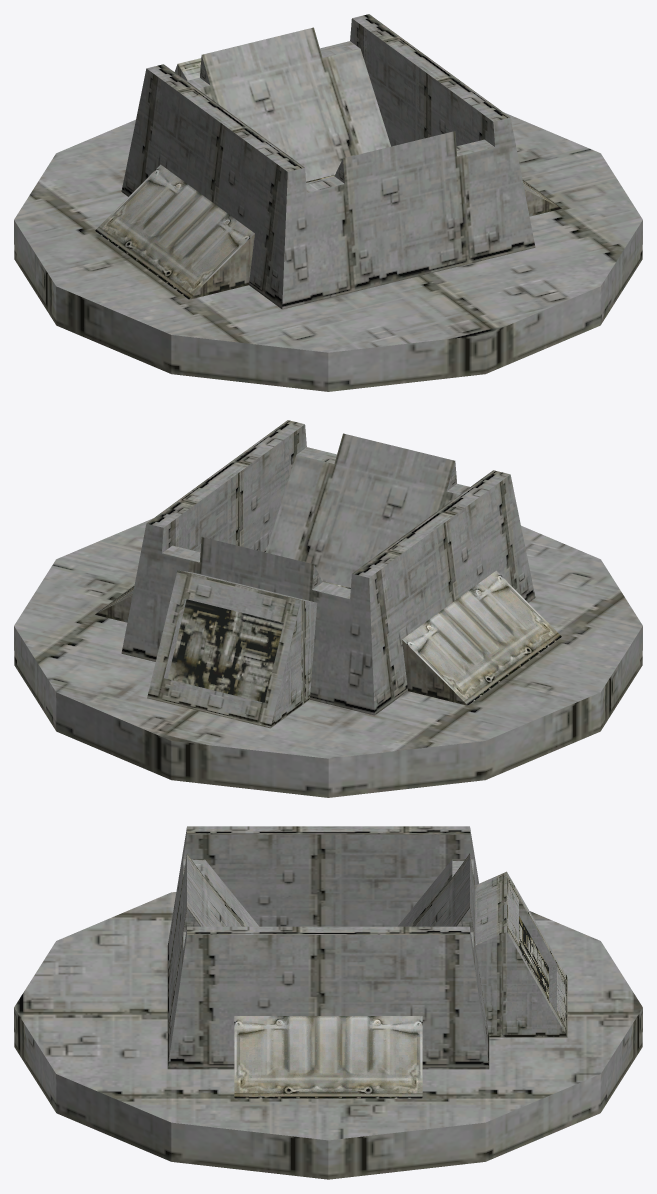
Rendered from ins_all_def_turret_sm_s03_turret_l0.fbx.
3 renders of one model, top to bottom at view 1: azimuth 30°, elevation 25°; view 2: azimuth 150°, elevation 25°; view 3: azimuth 270°, elevation 25°, orthographic.
Visible parts, largest first — view 1: mesh_node; view 2: mesh_node; view 3: mesh_node.
Part boxes in pixels (left/top/right/bottom): mesh_node: left=14, top=14, right=642, bottom=391; mesh_node: left=14, top=420, right=642, bottom=797; mesh_node: left=14, top=826, right=642, bottom=1179.
Bounding box in the file's own units: 1.47 × 0.4279 × 1.47.
